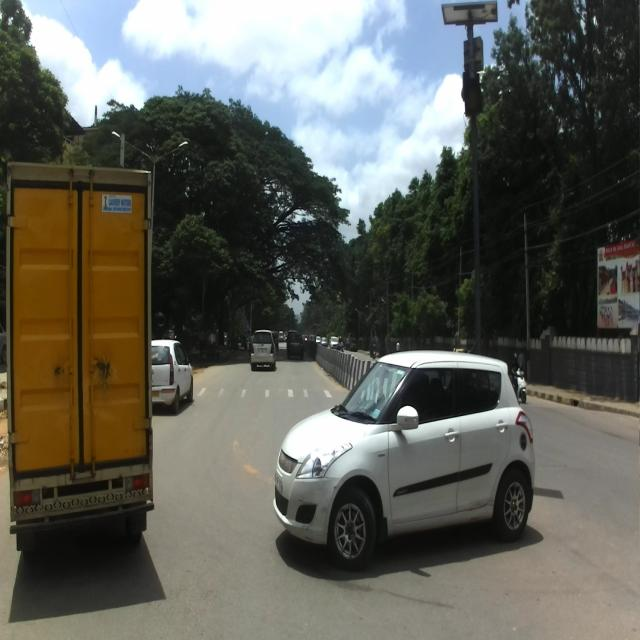car: (272, 349, 536, 571)
truck: (5, 161, 154, 575)
